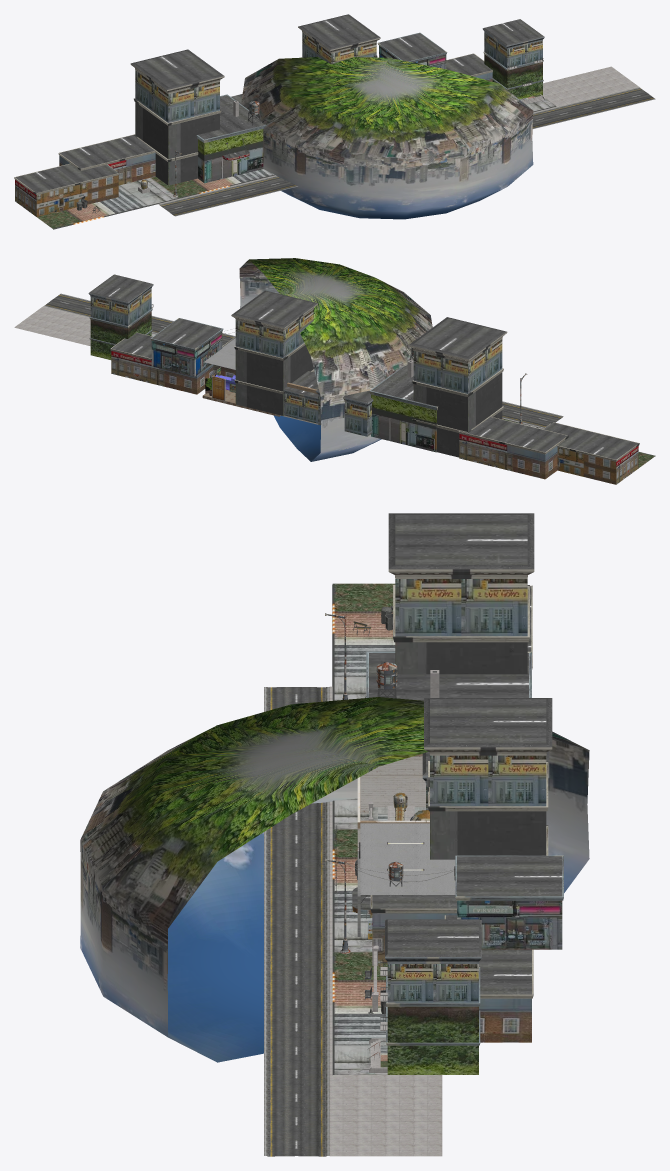
The model's file is Store_Food.glb.
3 renders of one model, top to bottom at view 1: azimuth 30°, elevation 25°; view 2: azimuth 150°, elevation 25°; view 3: azimuth 270°, elevation 25°, orthographic. The views are drawn at different scales.
Visible parts, largest first — view 1: Store_Food; view 2: Store_Food; view 3: Store_Food.
Part boxes in pixels (bbox=[...]): Store_Food: bbox=[14, 14, 655, 229]; Store_Food: bbox=[14, 258, 655, 484]; Store_Food: bbox=[80, 513, 589, 1156].
Bounding box in the file's own units: 563 × 136 × 212.
Materials: 23 (22 with a texture image).
